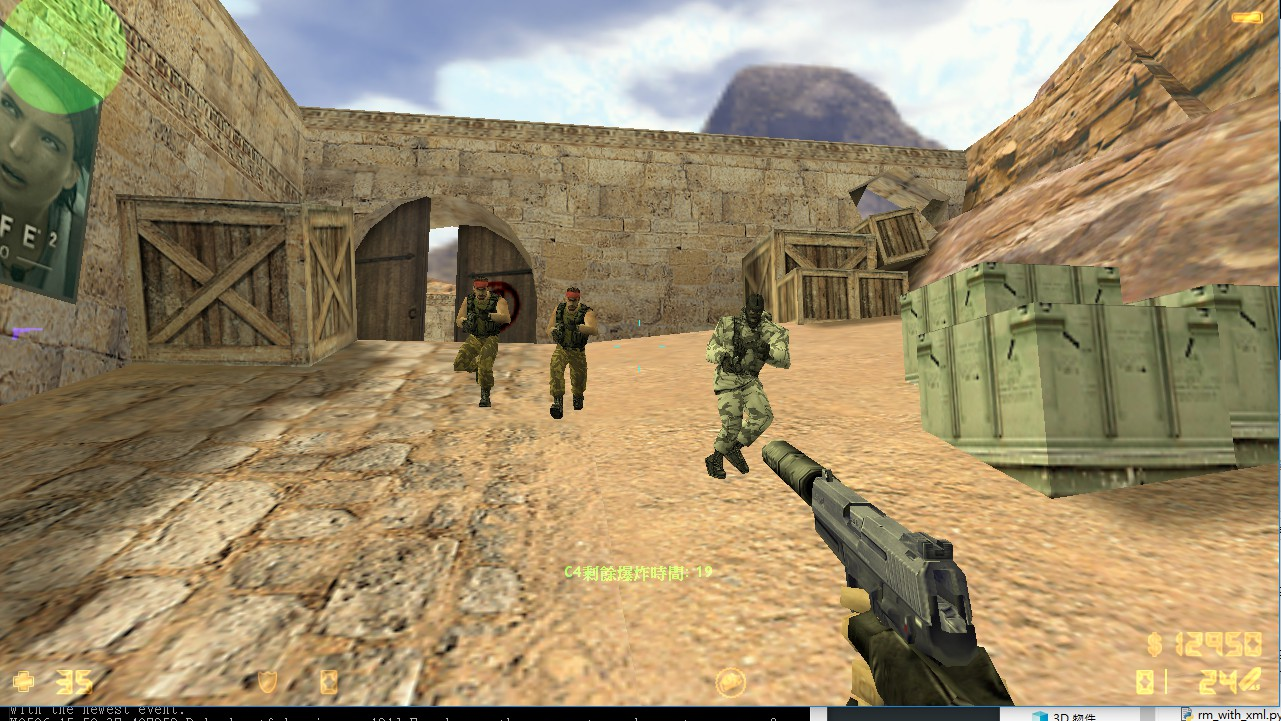person: (695, 284, 789, 480), (448, 277, 508, 408), (546, 281, 598, 420)
